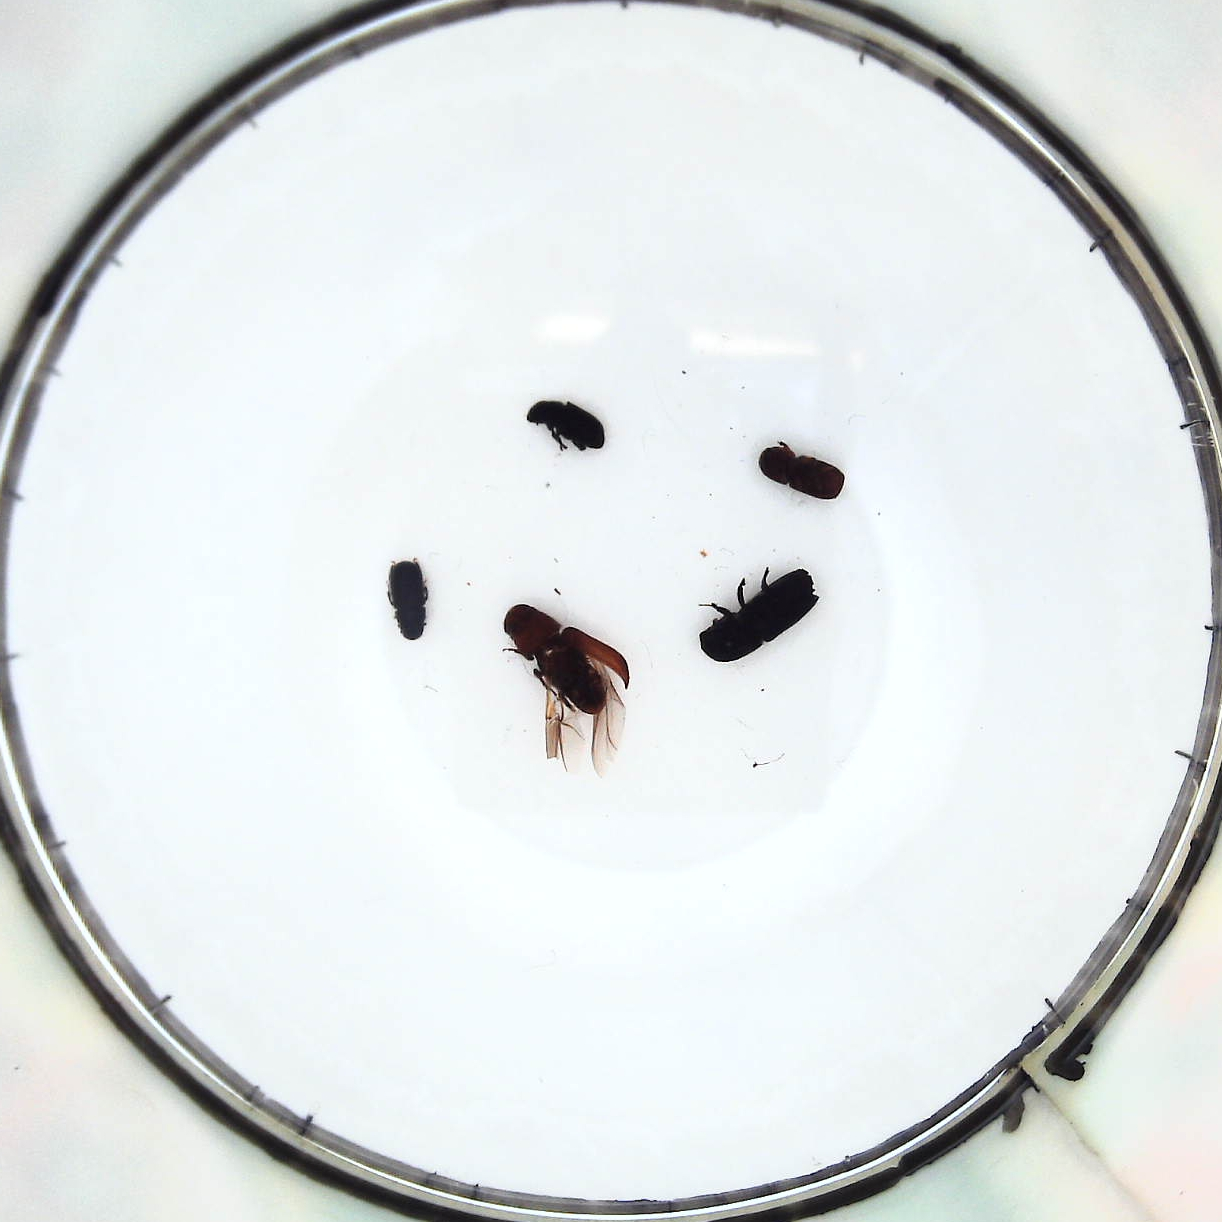Boerner: (694, 568, 816, 661)
Leconte: (499, 598, 631, 746)
Linnaeus: (758, 444, 842, 500)
armandi: (529, 398, 609, 449), (391, 554, 431, 637)
